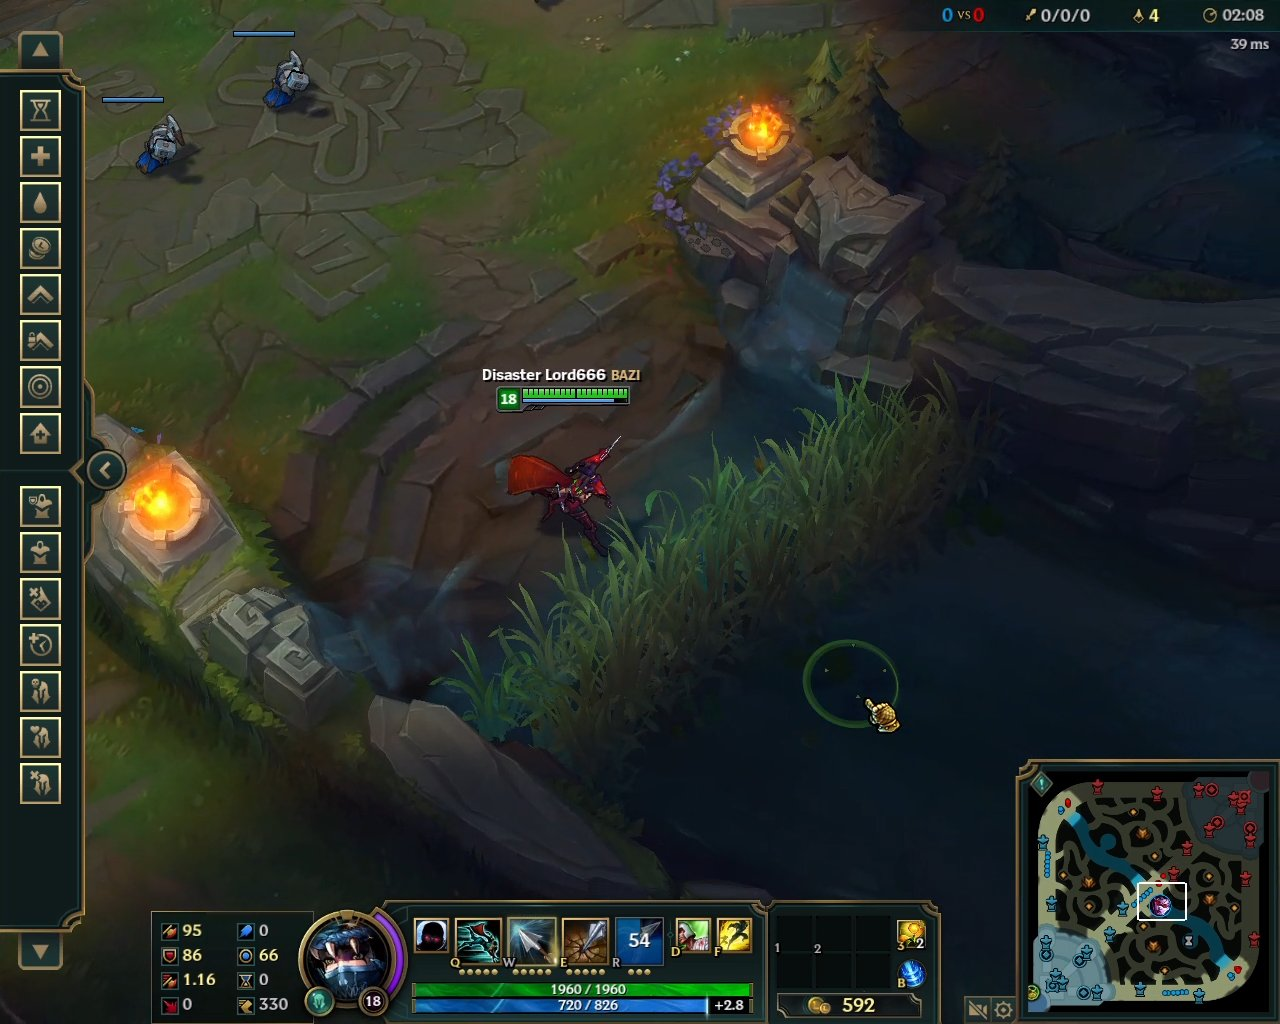Vayne: (503, 421, 626, 567)
